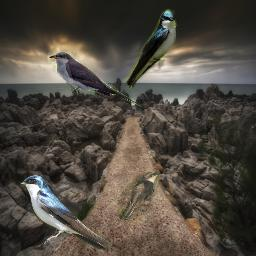Cuckoo: (48, 52, 141, 108), (118, 172, 160, 221)
Swallow: (20, 175, 111, 250), (124, 9, 178, 91)
